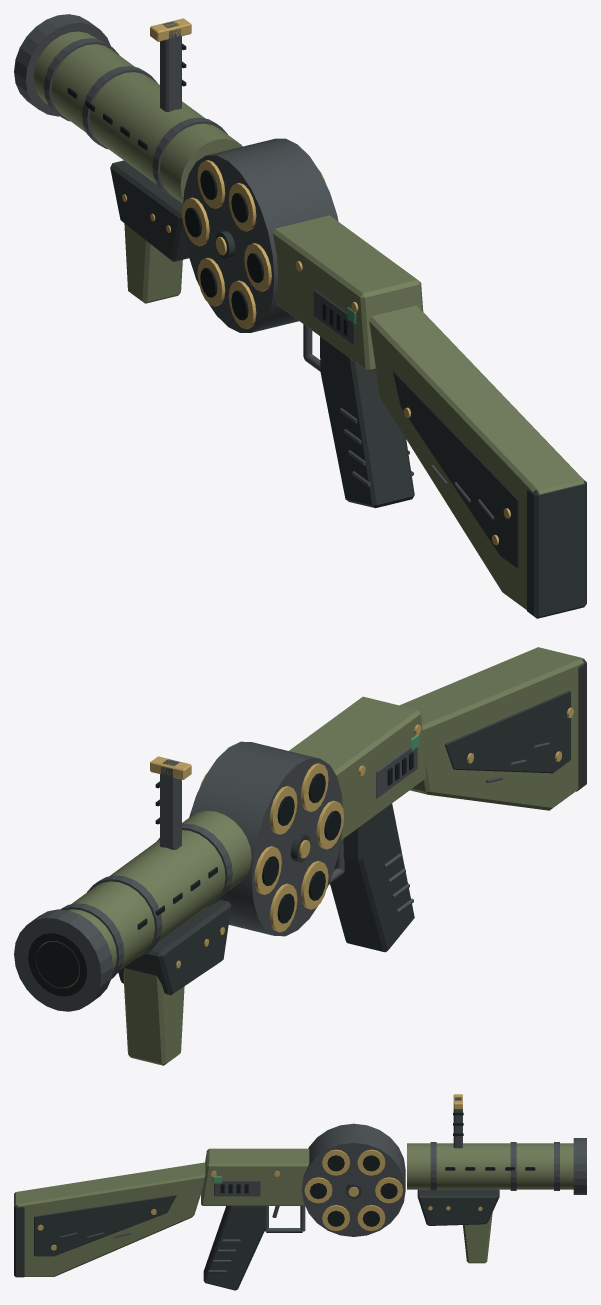
File: grenade_1.glb
3 views of the same model, one above another, from view 1: azimuth 30°, elevation 25°; view 2: azimuth 150°, elevation 25°; view 3: azimuth 270°, elevation 25° (orthographic). The views are drawn at different scales.
Visible parts, largest first — view 1: Weapon_grenade_v1; view 2: Weapon_grenade_v1; view 3: Weapon_grenade_v1.
Part boxes in pixels (x1,y1,x2,y2): Weapon_grenade_v1: (14, 14, 586, 618); Weapon_grenade_v1: (14, 647, 586, 1065); Weapon_grenade_v1: (14, 1094, 586, 1290).
Size of the model in its own units: 0.086 by 0.3092 by 0.86.
